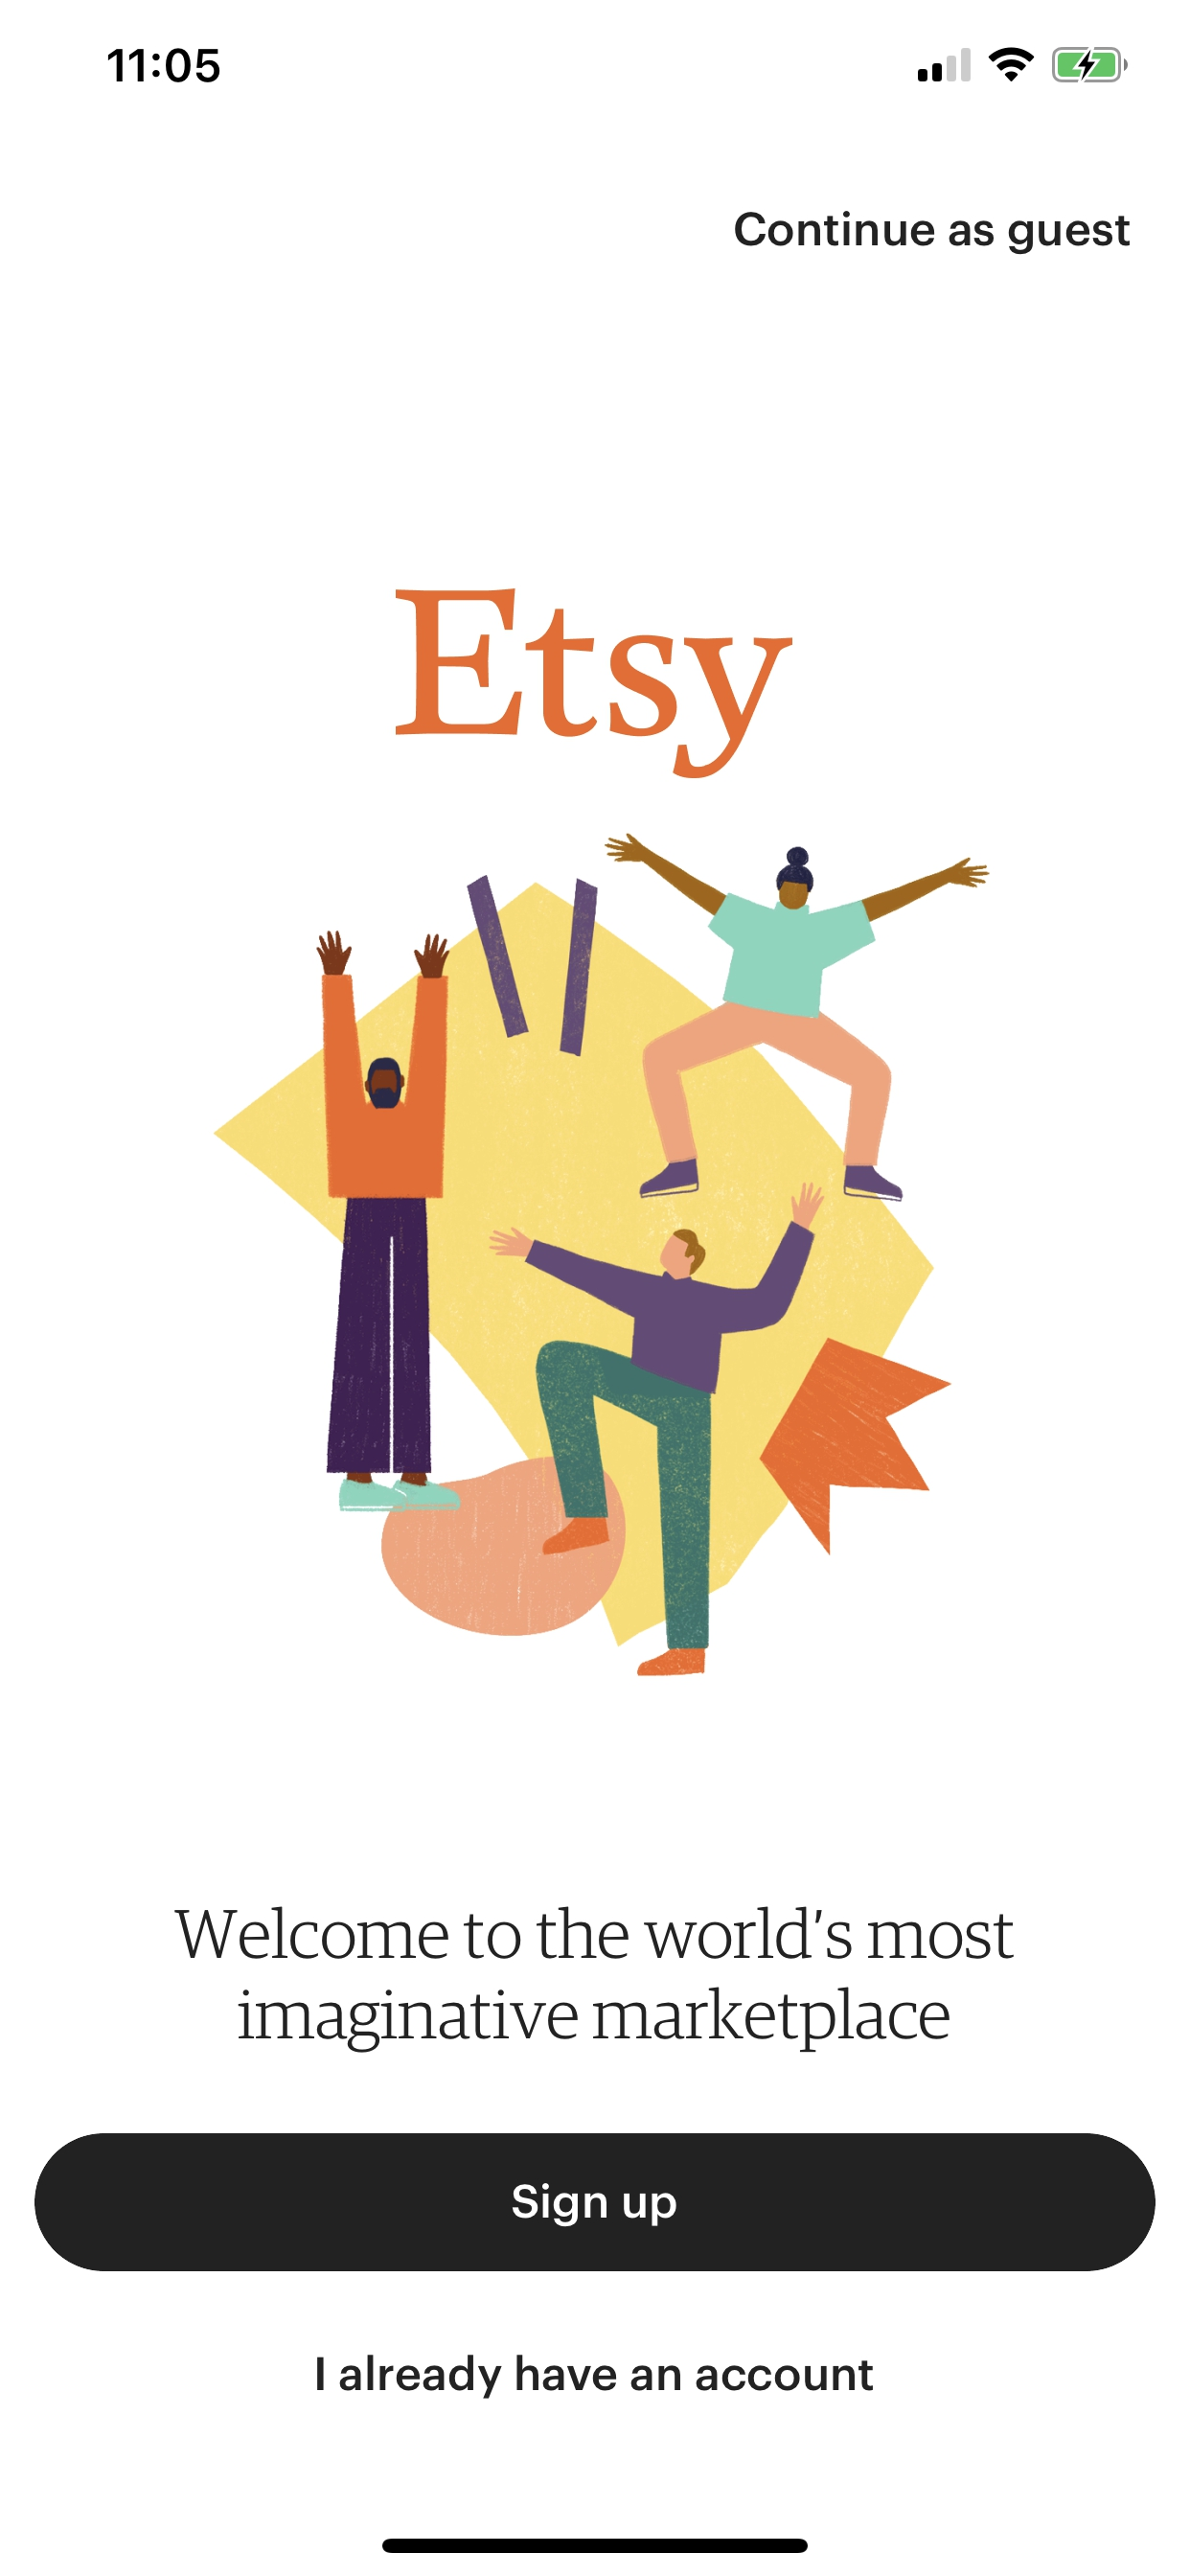Image: (214, 833, 989, 1677)
Text: (174, 1906, 1014, 2054), (396, 588, 792, 779), (317, 2354, 873, 2399), (735, 212, 1129, 256)
TextButton: (35, 2132, 1155, 2270)
UpperTaskBar: (108, 48, 1128, 84)
